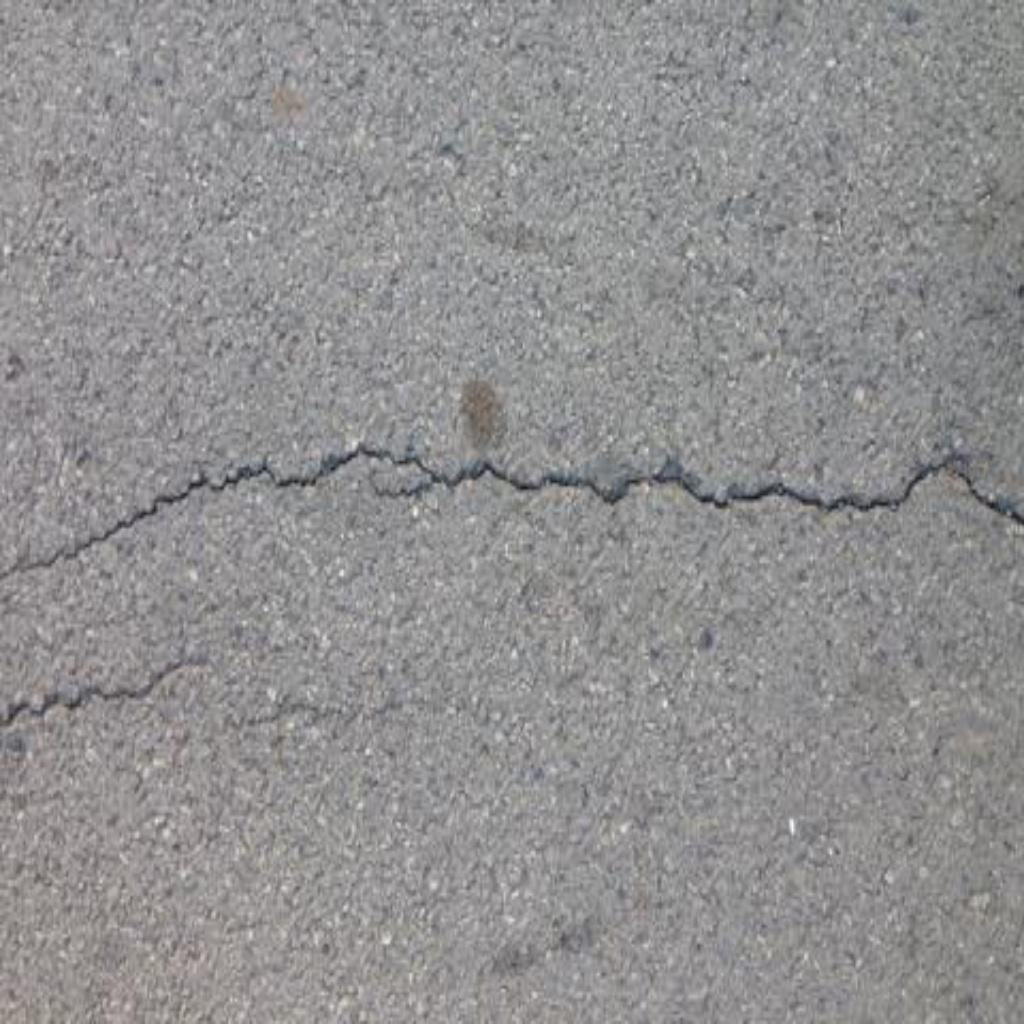Crack: (1, 442, 1024, 581), (1, 657, 216, 727)
